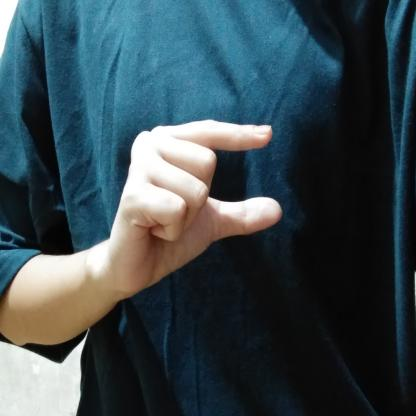small: (106, 114, 287, 304)
